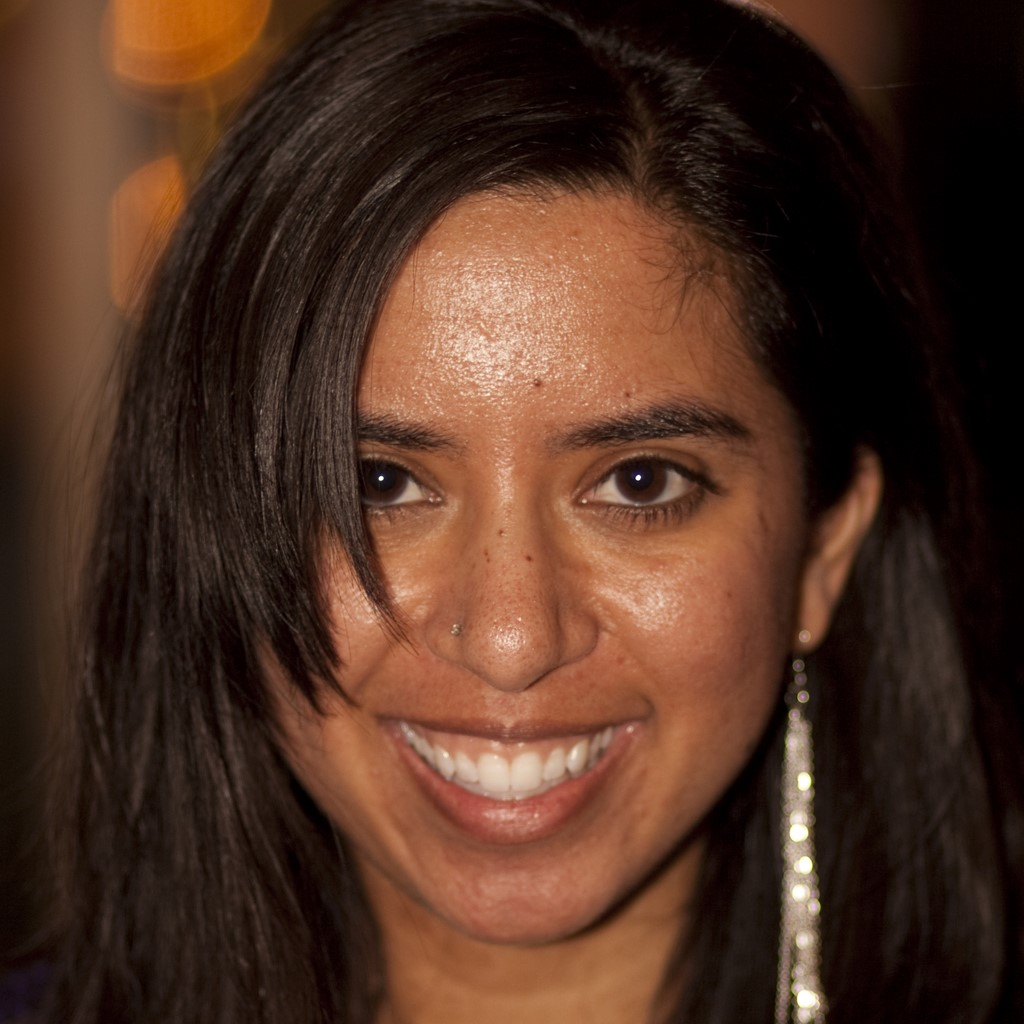sin_mascara: (225, 115, 876, 929)
